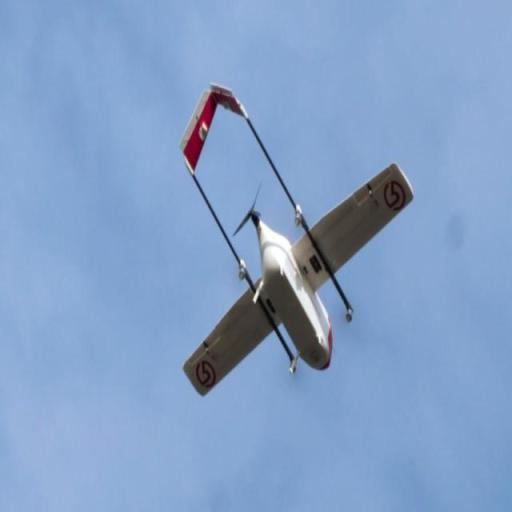uav: (173, 74, 419, 420)
